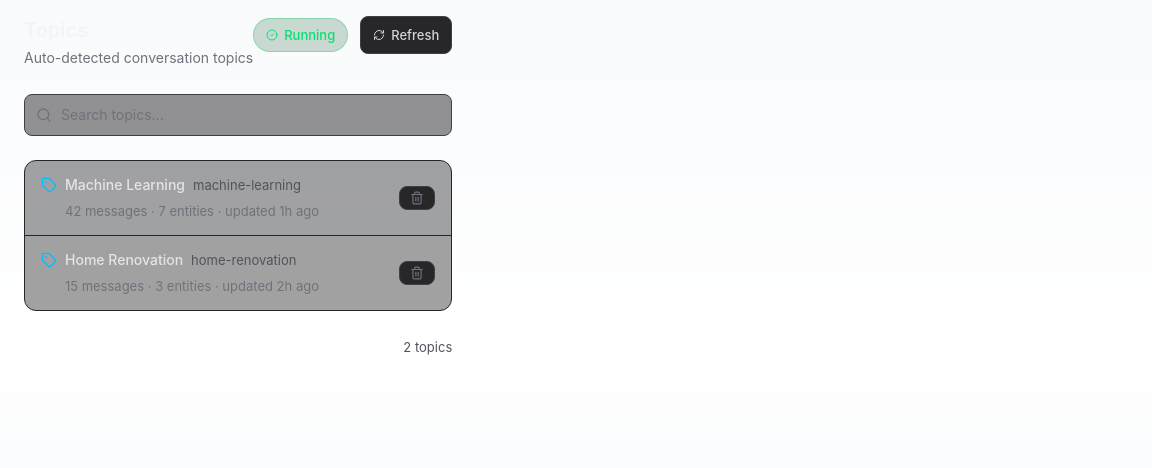
Test: TopicsPage › shows Confirm button on first delete click
Expected: the text "Machine Learning" is shown, [65,173,185,197]
First delete button (trash icon)
Step 1. Click the button without text next to "1h ago" → {"x": 417, "y": 198}, box [399,186,435,210]
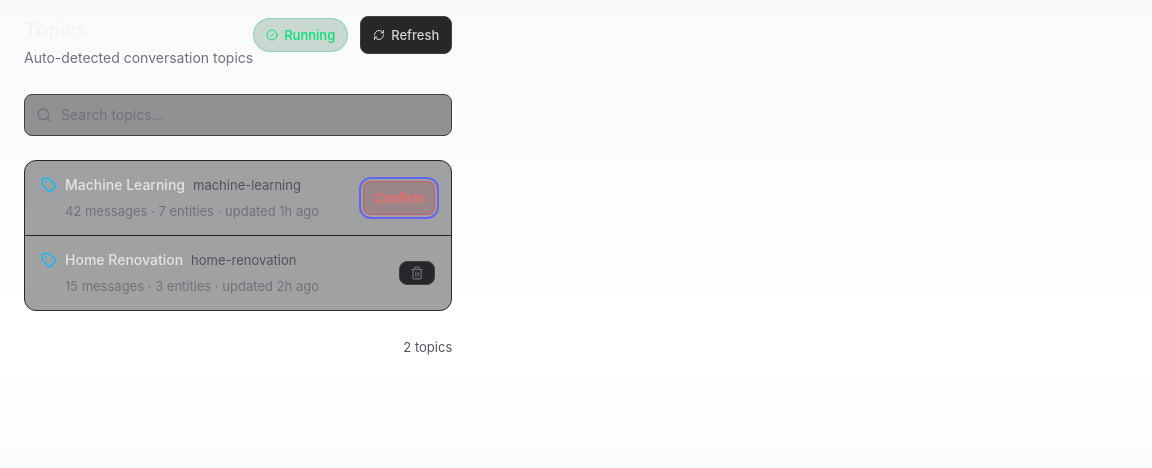
Now the button "Confirm" is shown, box [363,181,435,215]
